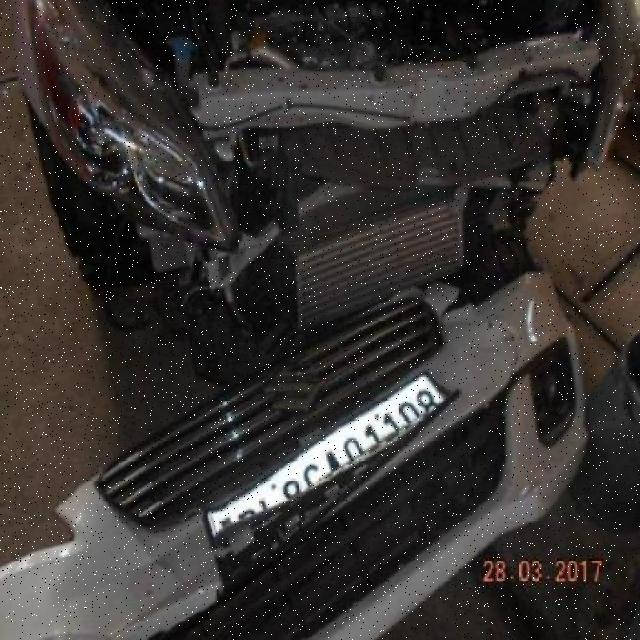damage: (31, 9, 612, 351)
